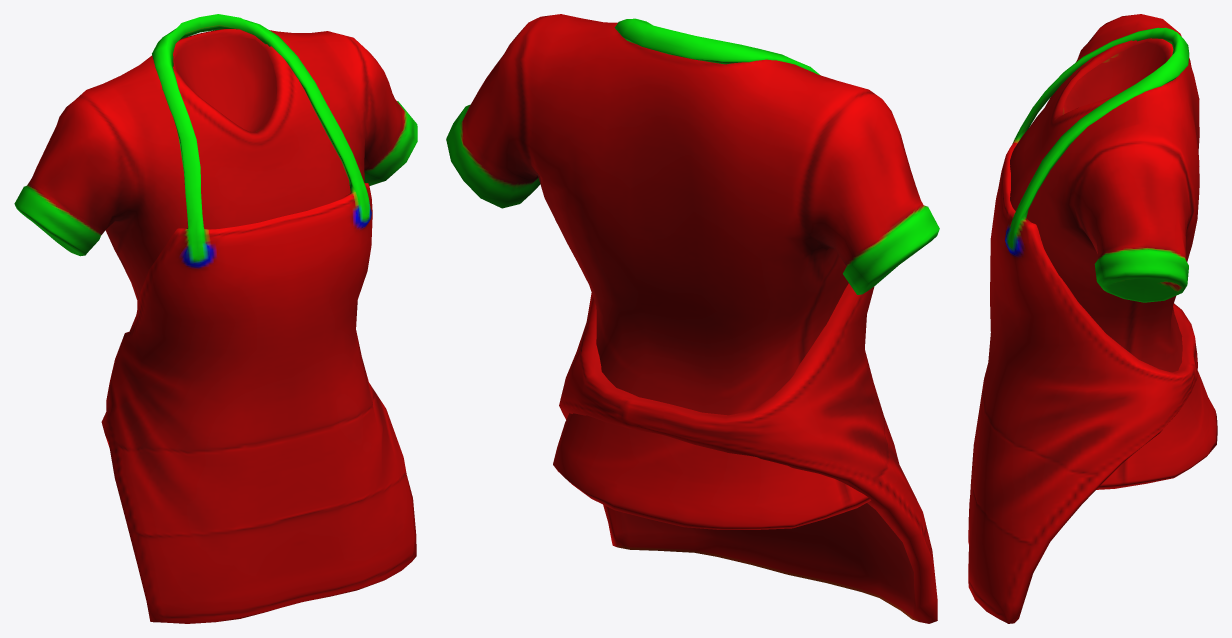
Rendered from Top_TuckedShirtApron.obj.
3 views of the same model, side by side, from view 1: azimuth 30°, elevation 25°; view 2: azimuth 150°, elevation 25°; view 3: azimuth 270°, elevation 25° (orthographic). The views are drawn at different scales.
Parts seen in each view (by area): view 1: Top_TuckedShirtApron_0; view 2: Top_TuckedShirtApron_0; view 3: Top_TuckedShirtApron_0.
Boxes of the visible parts, x1,y1,x2,y2 form: Top_TuckedShirtApron_0: [14, 14, 417, 623]; Top_TuckedShirtApron_0: [446, 14, 939, 623]; Top_TuckedShirtApron_0: [968, 14, 1217, 623].
Bounding box in the file's own units: 0.4966 × 0.63 × 0.2728.
Materials: 1 (1 with a texture image).
